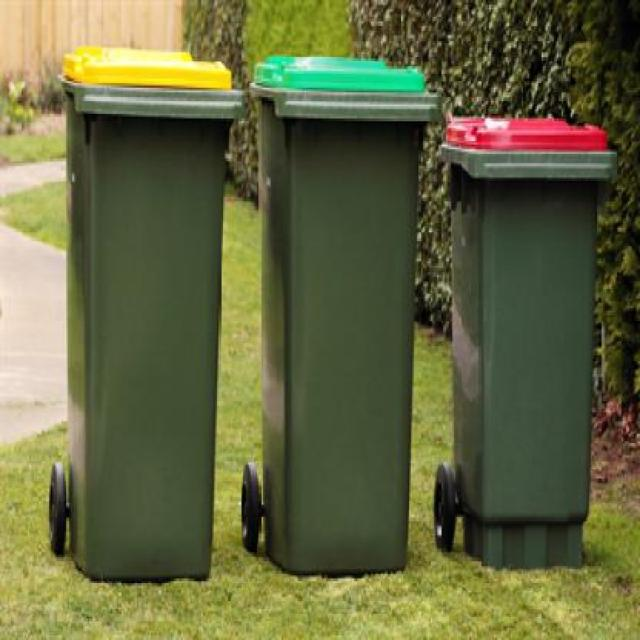garbage container: (38, 35, 251, 597), (234, 49, 443, 591), (431, 90, 620, 593)
